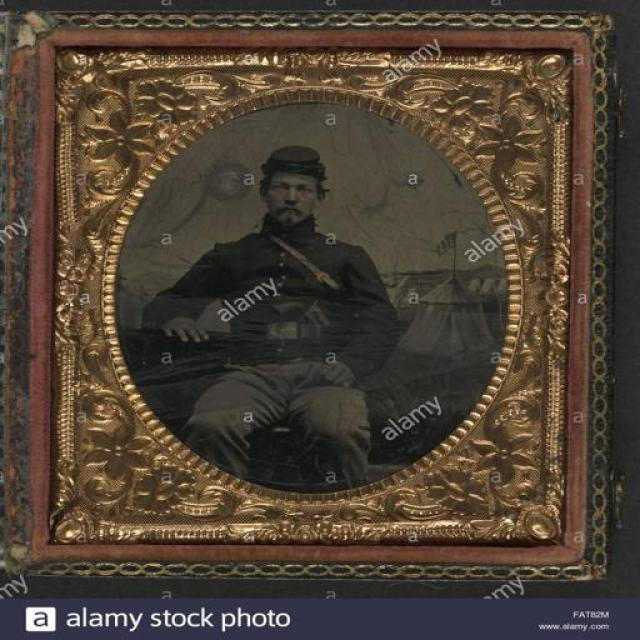pistol: (266, 296, 338, 328)
